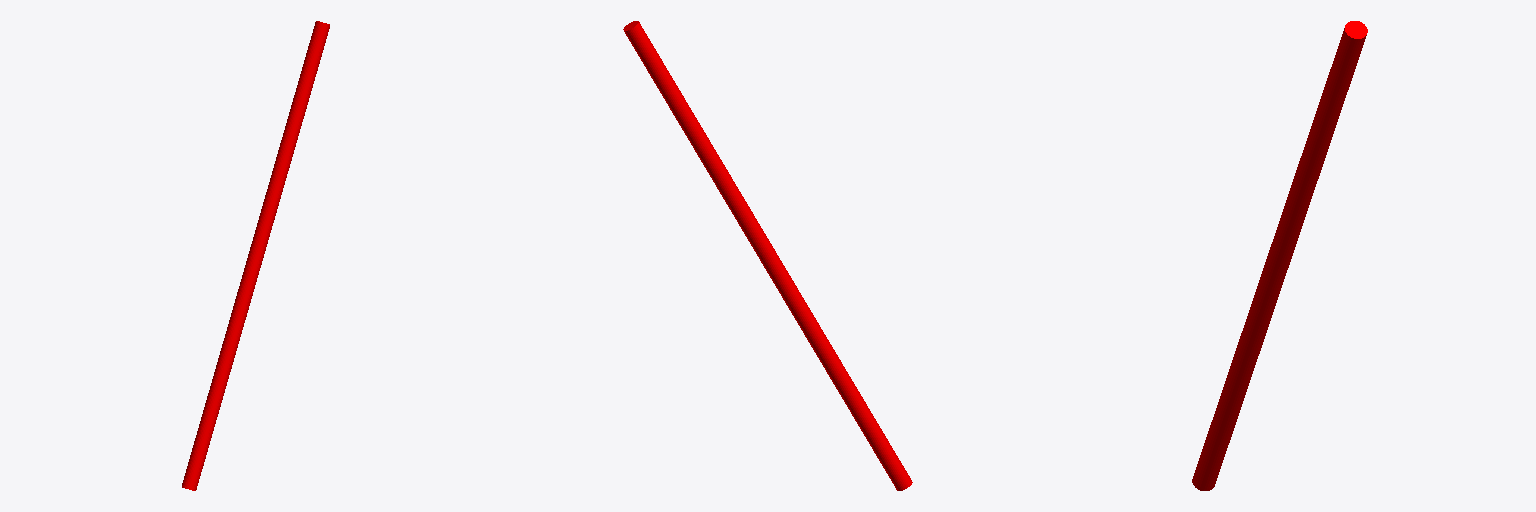
robot.urdf — tree_83.urdf:
<?xml version='1.0' encoding='utf-8'?>
<robot name="tree_83.urdf">
  <link name="branch_0">
    <inertial>
      <origin xyz="0.0 0.0 0.0" rpy="0.0 -0.0 0.0" />
      <mass value="1.0" />
      <inertia ixx="1.0" ixy="0.0" ixz="0.0" iyy="1.0" iyz="0.0" izz="1.0" />
    </inertial>
    <visual name="branch_0_visual">
      <geometry>
        <cylinder radius="0.05298561914159867" length="3.3580090991184237" />
      </geometry>
      <material name="semantic_material" />
      <origin xyz="0.7361583452875725 0.34403179535982864 1.4692750906094774" rpy="5.029040177187798e-17 0.5051807299288816 0.4371749802737168" />
    </visual>
    <collision name="branch_0_collision">
      <geometry>
        <cylinder radius="0.05298561914159867" length="3.3580090991184237" />
      </geometry>
      <origin xyz="0.7361583452875725 0.34403179535982864 1.4692750906094774" rpy="5.029040177187798e-17 0.5051807299288816 0.4371749802737168" />
    </collision>
  </link>
  <material name="semantic_material">
    <color rgba="1. 0. 0. 1." />
  </material>
</robot>

--- Render facts (derived) ---
Views: 3 orthographic renders of the robot side by side, from view 1: azimuth 30°, elevation 25°; view 2: azimuth 150°, elevation 25°; view 3: azimuth 270°, elevation 25°.
Model tree_83.urdf with 1 links and 0 joints (none), rooted at branch_0, posed all joints at 0.
Visible links, largest first — view 1: branch_0; view 2: branch_0; view 3: branch_0.
Link boxes in pixels (x1,y1,x2,y2): branch_0: (182,21,329,490); branch_0: (623,21,912,490); branch_0: (1192,21,1367,490).
Bounding box of the posed robot: 1.57 × 0.7918 × 2.99 m (x, y, z).
Geometry: primitives only (box / cylinder / sphere), no mesh files.